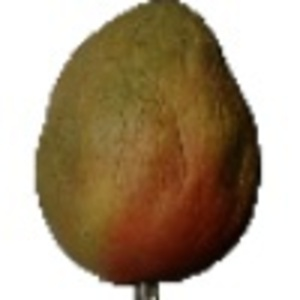mamão: (24, 1, 266, 288)
